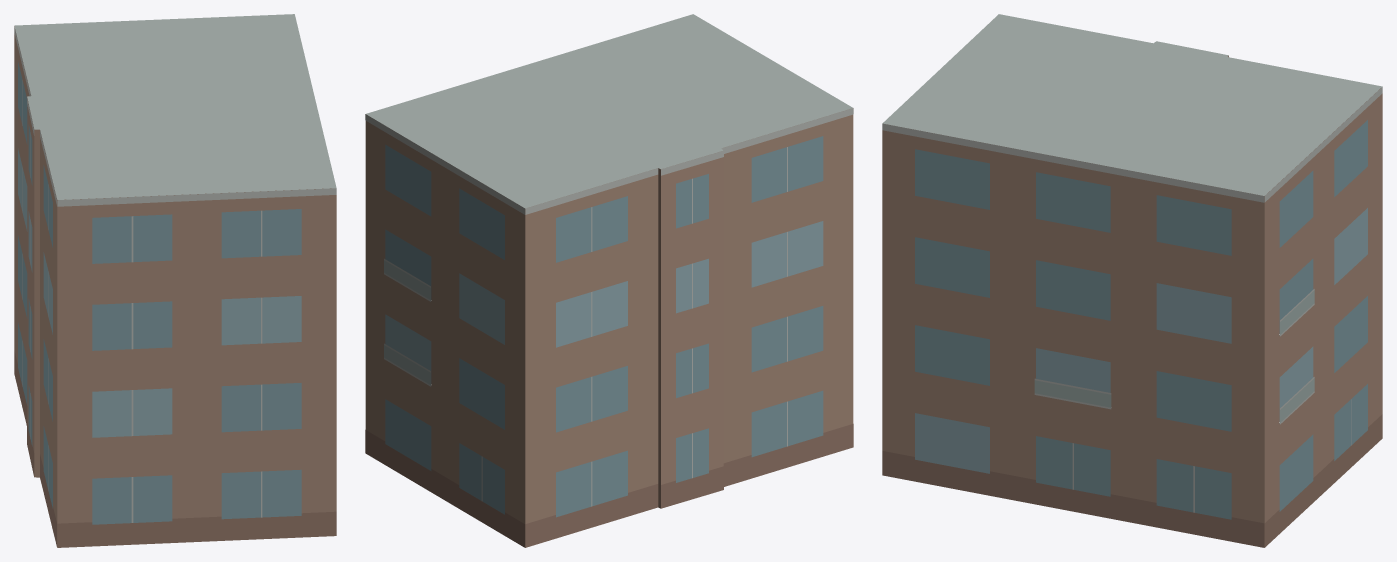
Rendered from survey-upis-32669294.glb.
3 renders of one model, left to right at view 1: azimuth 30°, elevation 25°; view 2: azimuth 150°, elevation 25°; view 3: azimuth 270°, elevation 25°, orthographic. The views are drawn at different scales.
Visible parts, largest first — view 1: survey-upis-32669294.tmp; view 2: survey-upis-32669294.tmp; view 3: survey-upis-32669294.tmp.
Part boxes in pixels (x1,y1,x2,y2): survey-upis-32669294.tmp: [14, 14, 336, 547]; survey-upis-32669294.tmp: [365, 14, 853, 547]; survey-upis-32669294.tmp: [882, 14, 1382, 547].
Size of the model in its own units: 14.09 by 12.69 by 16.36.
